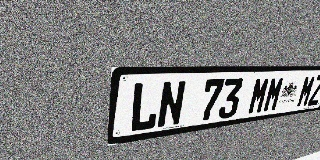3: (217, 78, 244, 119)
7: (197, 79, 225, 122)
L: (129, 81, 161, 133)
M: (247, 77, 271, 115), (262, 76, 285, 113), (296, 75, 317, 108)
N: (156, 80, 187, 129)
Z: (307, 75, 320, 106)
